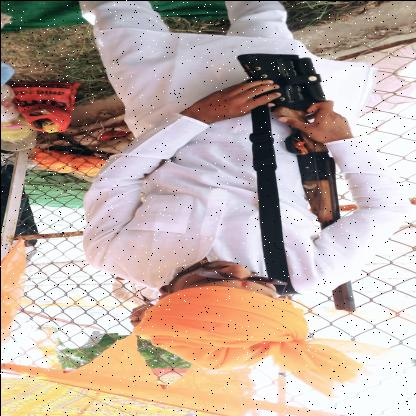rifle: (234, 51, 358, 312)
